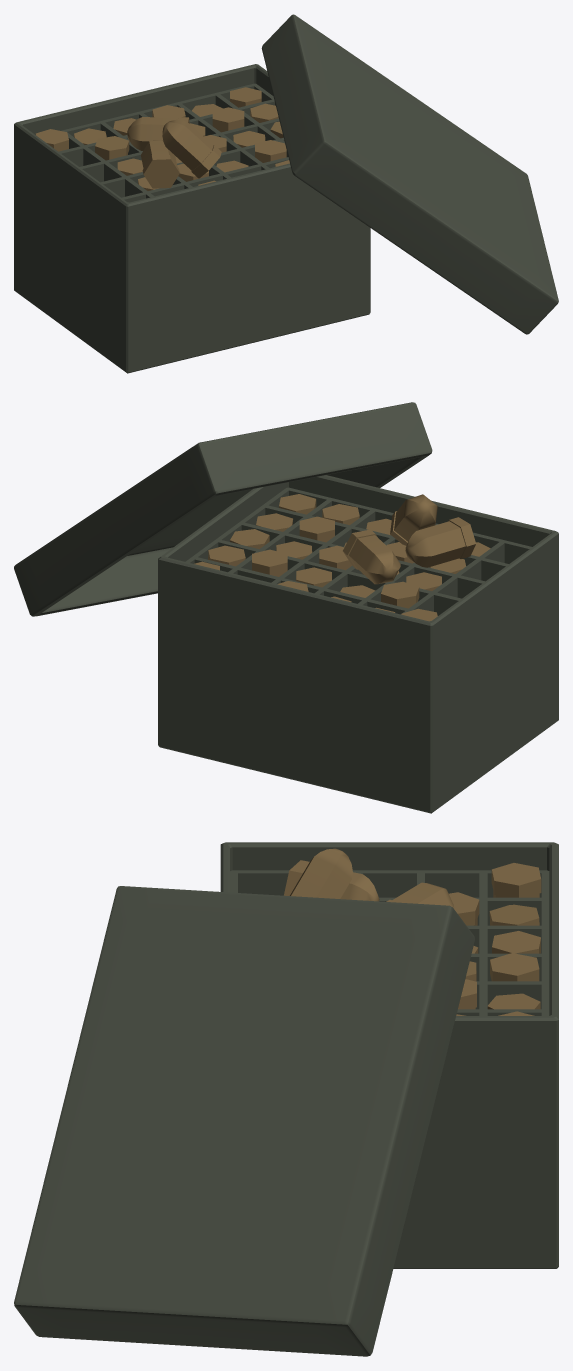
File: ammo.fbx
3 renders of one model, top to bottom at view 1: azimuth 30°, elevation 25°; view 2: azimuth 150°, elevation 25°; view 3: azimuth 270°, elevation 25°, orthographic. The views are drawn at different scales.
Parts seen in each view (by area): view 1: ammo1; view 2: ammo1; view 3: ammo1.
Boxes of the visible parts, x1=… form: ammo1: x1=14, y1=14, x2=558, y2=373; ammo1: x1=14, y1=402, x2=558, y2=813; ammo1: x1=14, y1=842, x2=558, y2=1356.
Size of the model in its own units: 7.36 by 3.88 by 5.27.
